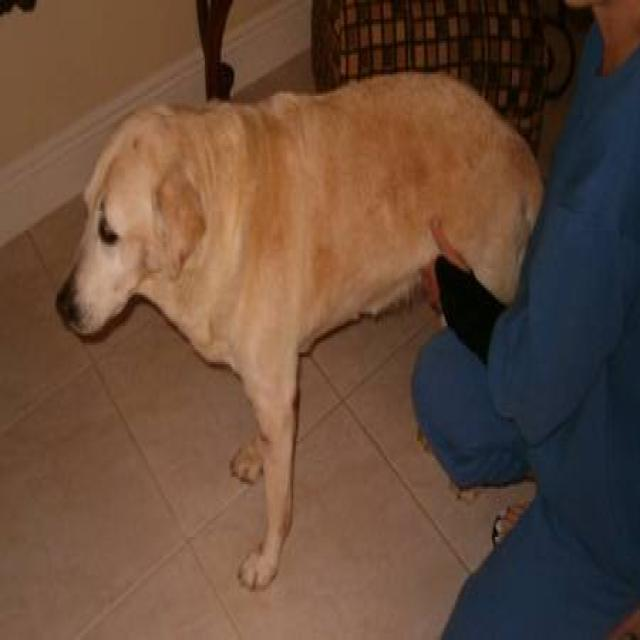Dog: (54, 88, 207, 363)
